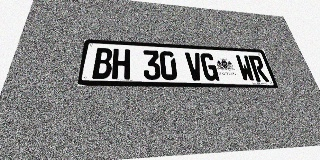0: (159, 51, 178, 80)
3: (143, 50, 161, 80)
B: (92, 48, 113, 79)
G: (199, 53, 220, 81)
H: (112, 48, 130, 79)
R: (248, 55, 270, 82)
V: (185, 52, 204, 81)
W: (235, 55, 256, 82)
